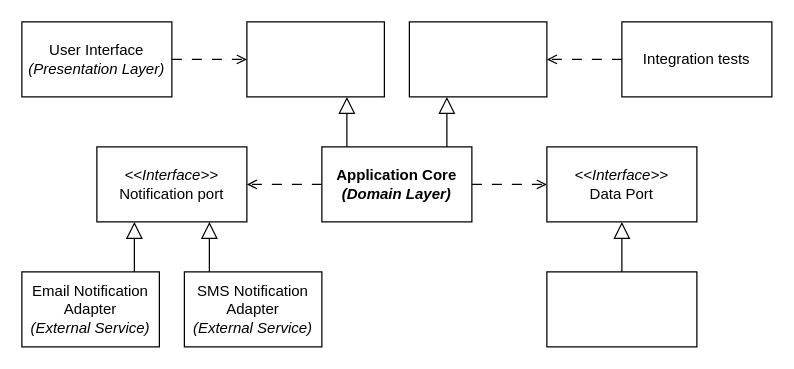
The diagram is 794 pixels wide and 369 high, and some of its shapes have lost their labels. Each missing label, with the centre of its shape:
"<<Interface>> Input Port" belongs at point 315,59.
"<<Interface>> Testing Port" belongs at point 477,59.
"Database Adapter (Data Layer)" belongs at point 621,309.
